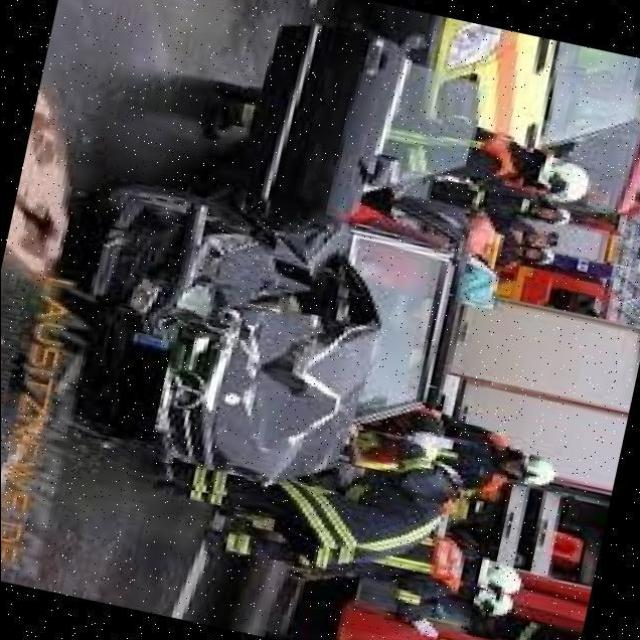accident: (12, 87, 485, 547)
